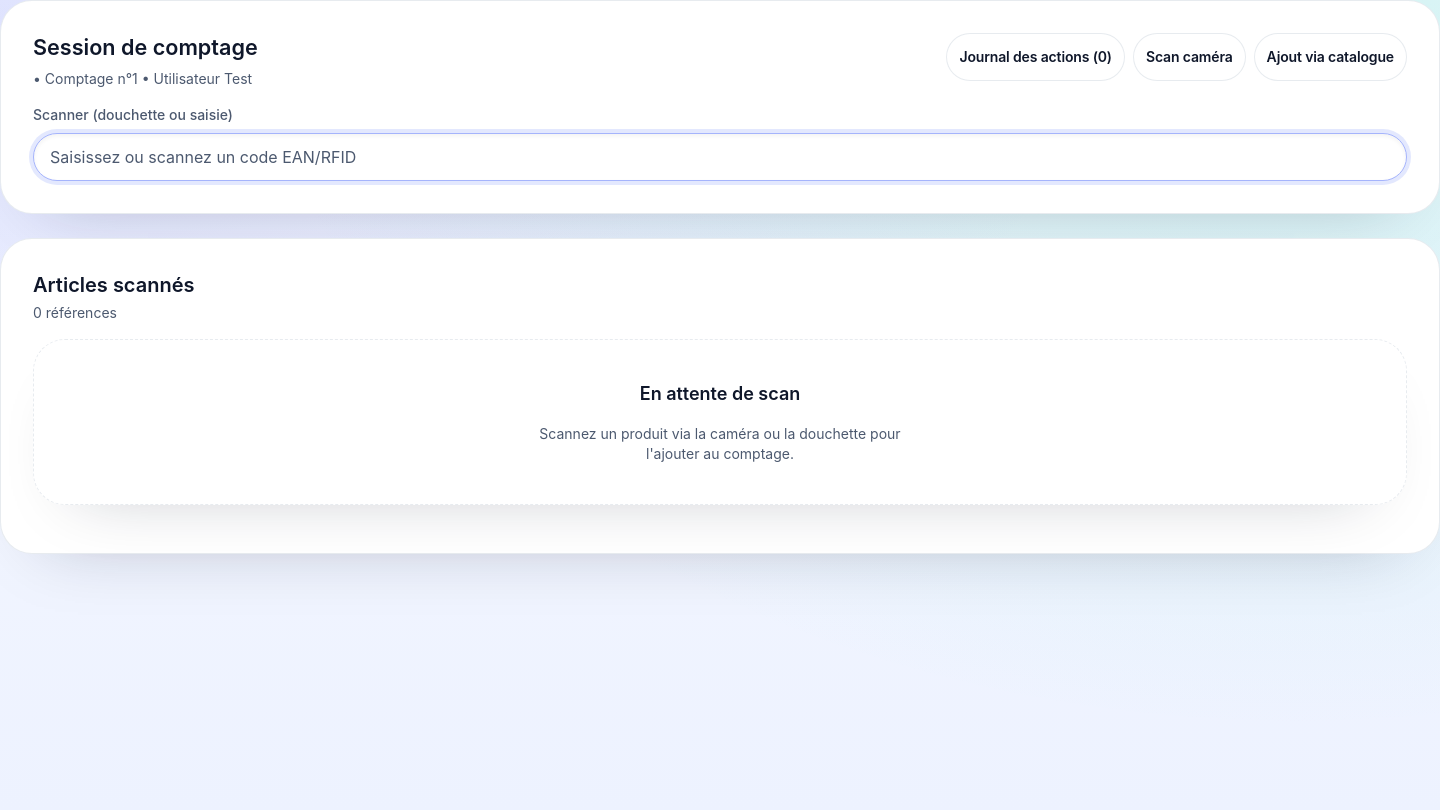
Test: InventorySessionPage - ajout manuel › n'initialise pas de comptage lorsqu'aucune zone n'est sélectionnée
In the field labelled "Scanner (douchette ou saisie)": [720, 157] box [33,133,1407,181], type "1234567890123"
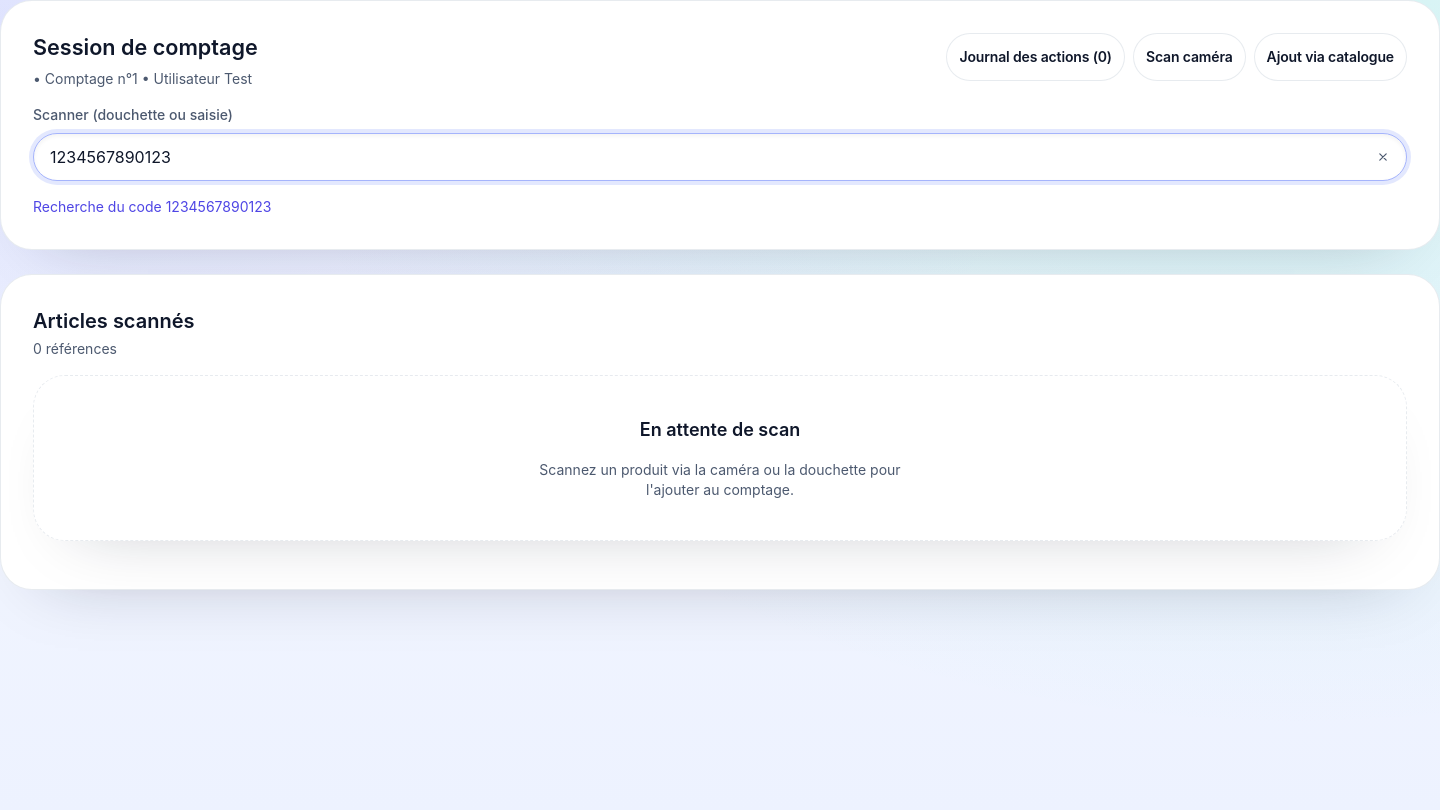
Press Enter in the field labelled "Scanner (douchette ou saisie)", box [33,133,1407,181]
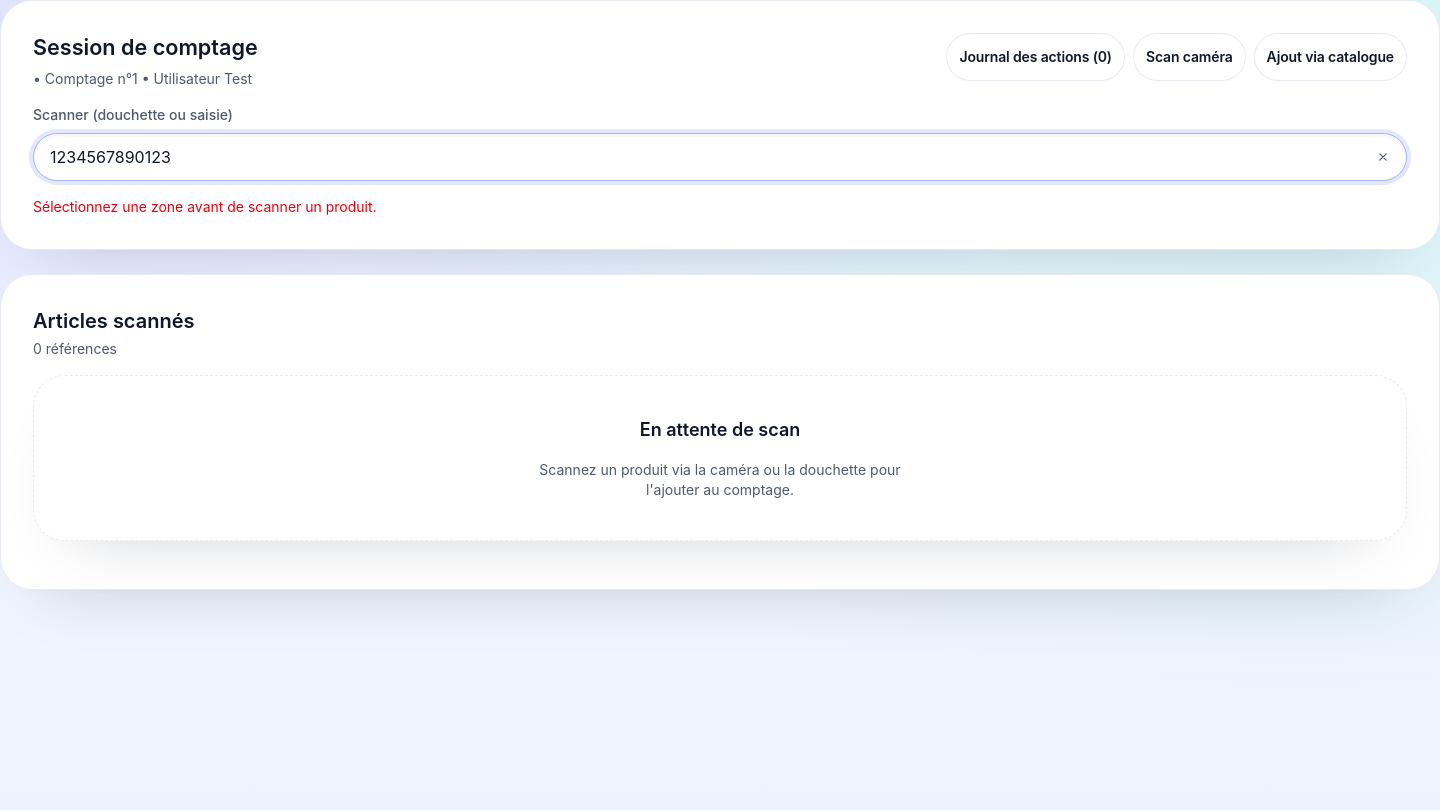
Expected: the text "Sélectionnez une zone avant de scanner un produit." is shown, [33,198,377,215]
